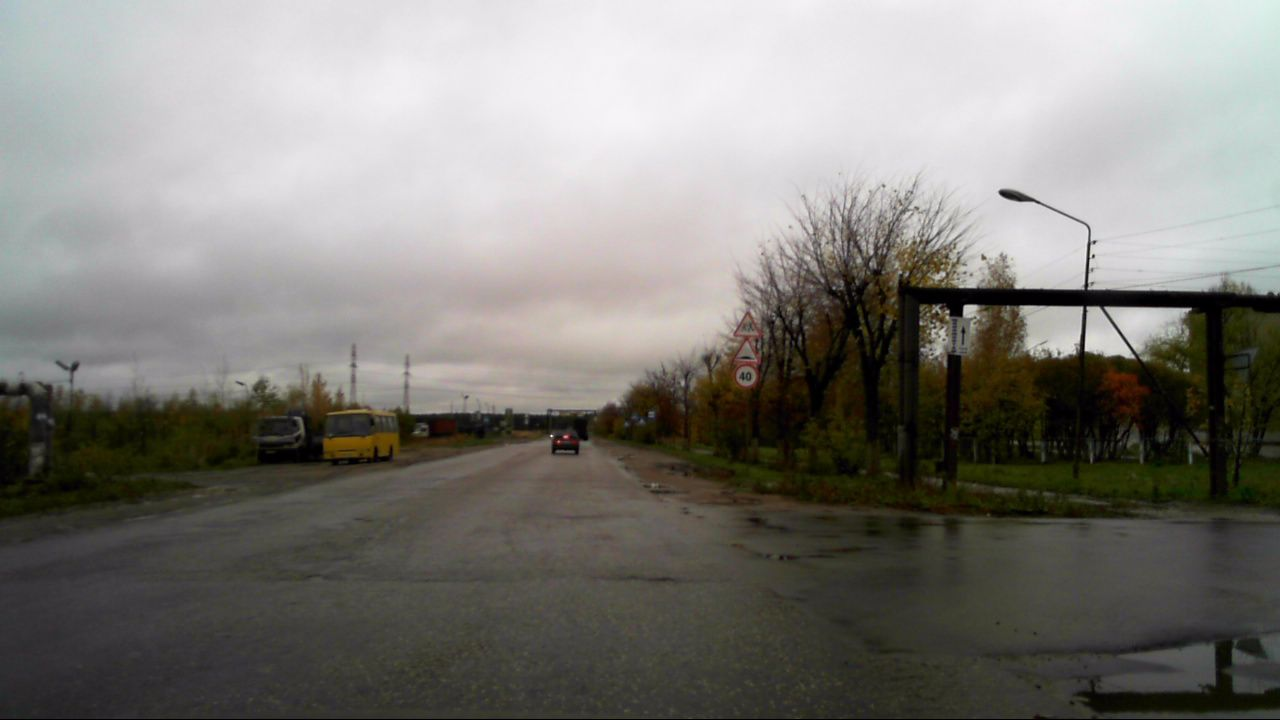speed_warning_40: (733, 363, 759, 389)
